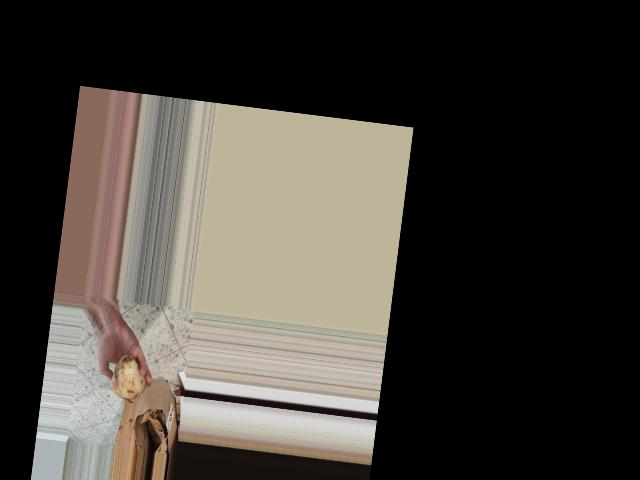onion: (105, 349, 151, 403)
